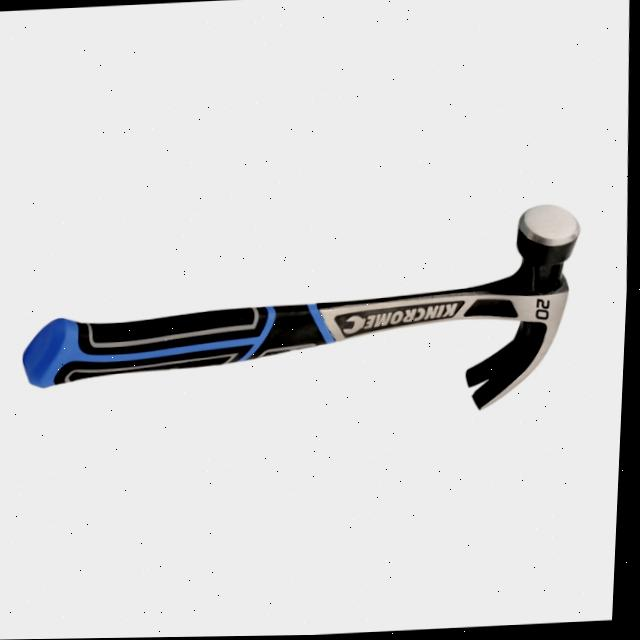hammer: (12, 198, 596, 438)
